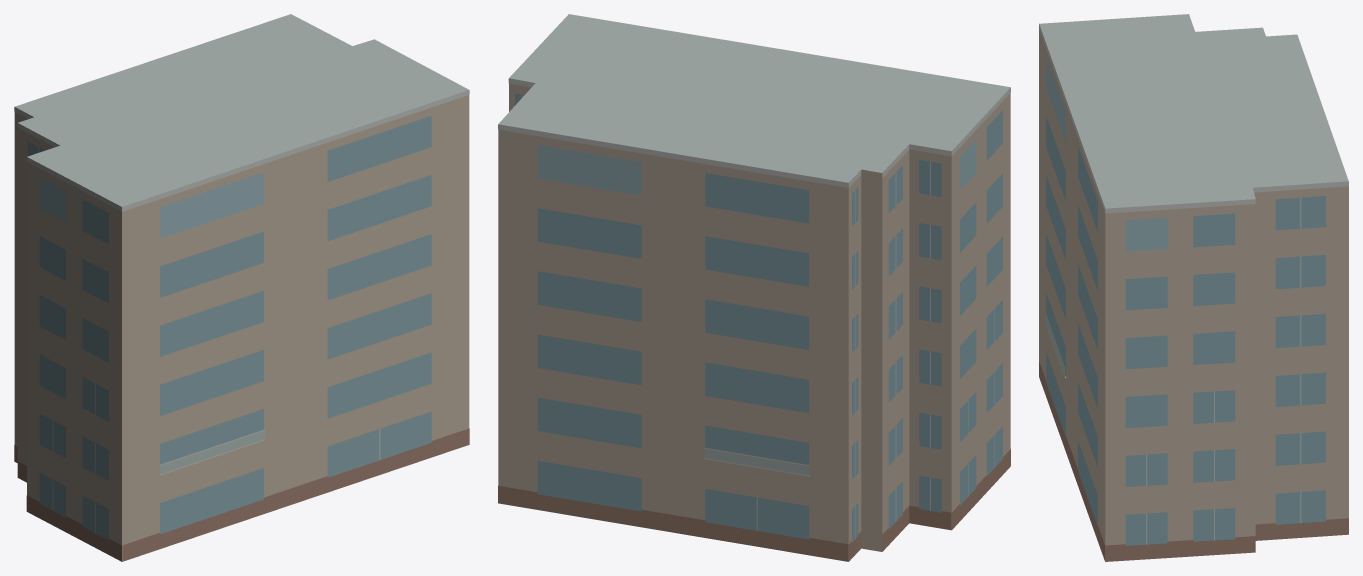
The model's file is survey-upis-33021663.glb.
3 views of the same model, side by side, from view 1: azimuth 30°, elevation 25°; view 2: azimuth 150°, elevation 25°; view 3: azimuth 270°, elevation 25° (orthographic). The views are drawn at different scales.
Parts seen in each view (by area): view 1: survey-upis-33021663.tmp; view 2: survey-upis-33021663.tmp; view 3: survey-upis-33021663.tmp.
Boxes of the visible parts, left/top/right/bottom form: survey-upis-33021663.tmp: left=14, top=14, right=469, bottom=561; survey-upis-33021663.tmp: left=498, top=14, right=1010, bottom=561; survey-upis-33021663.tmp: left=1039, top=14, right=1348, bottom=561.
Bounding box in the file's own units: 20.85 × 17.64 × 14.03.
